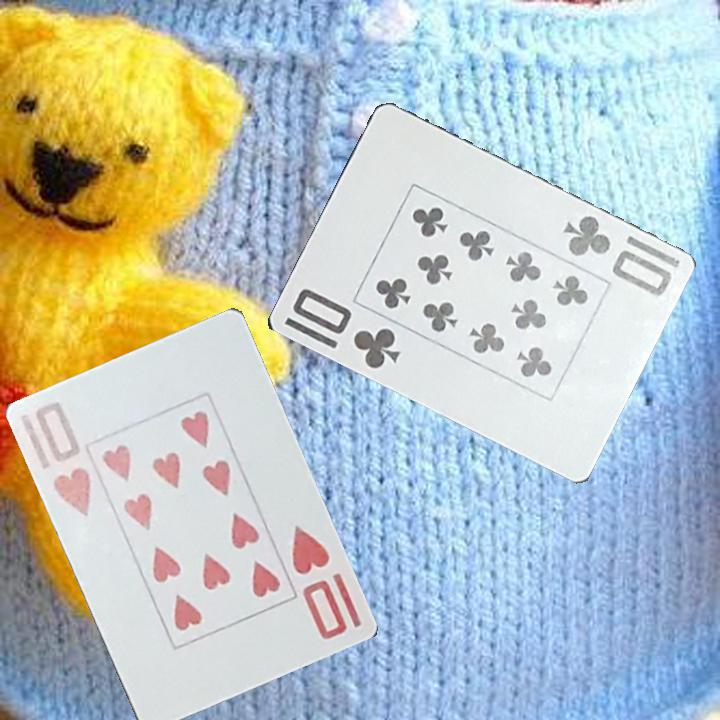Tc: (558, 205, 682, 304), (288, 284, 403, 373)
Th: (17, 398, 96, 520), (288, 521, 351, 643)
